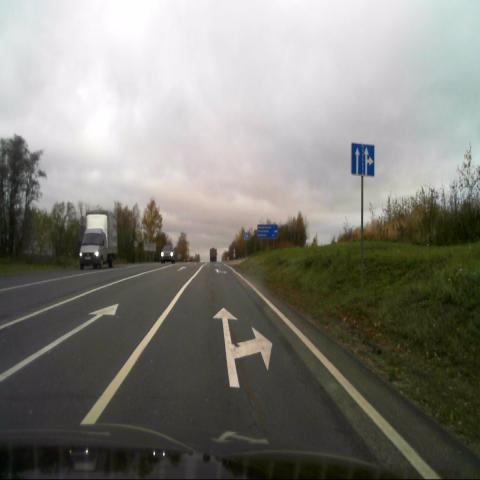5_15_2_2: (351, 142, 375, 177)
